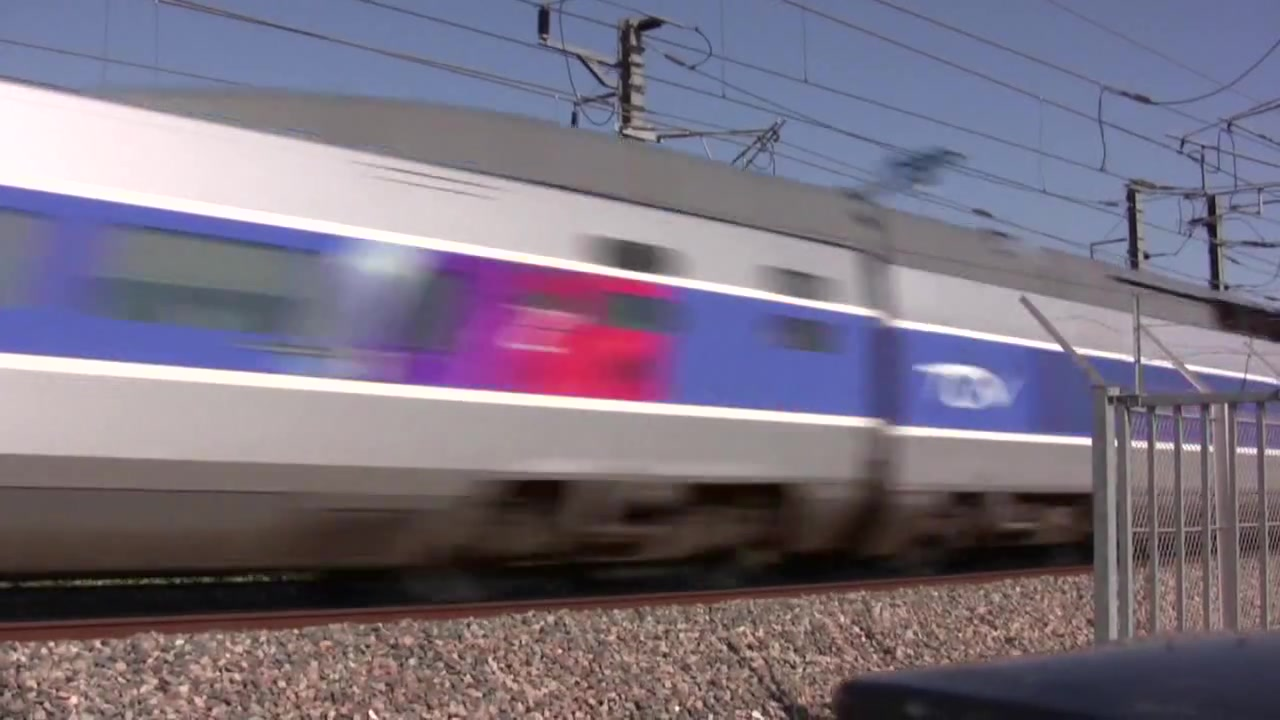train: (1, 72, 1280, 584)
